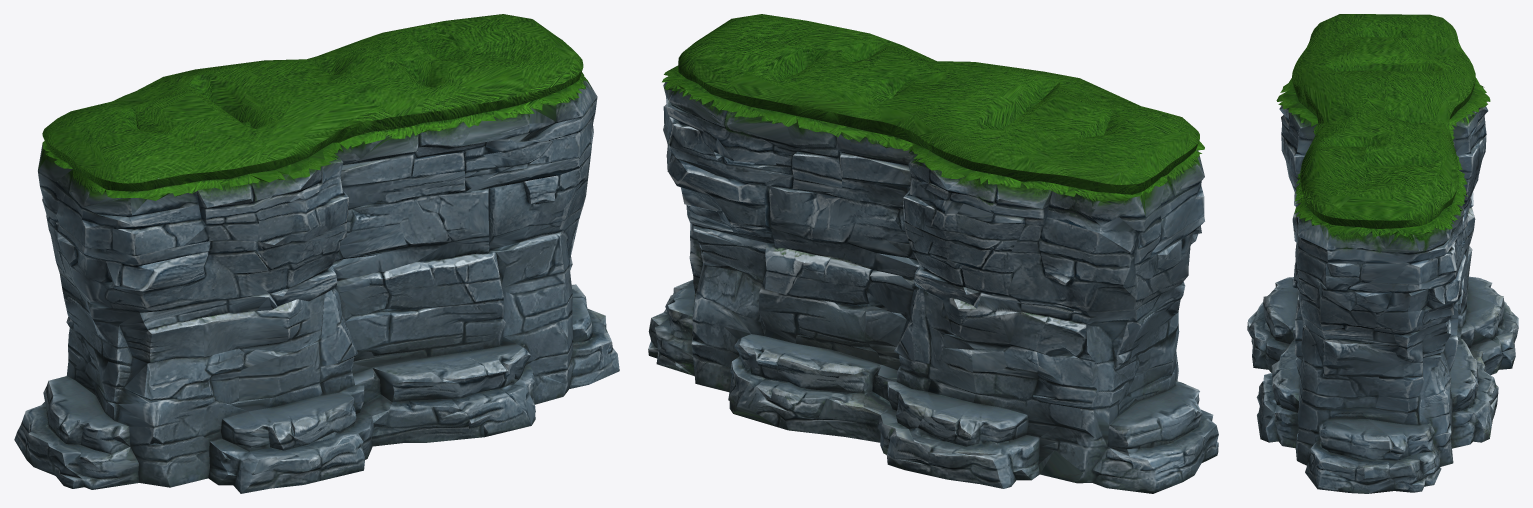
3 views of the same model, side by side, from view 1: azimuth 30°, elevation 25°; view 2: azimuth 150°, elevation 25°; view 3: azimuth 270°, elevation 25° (orthographic). The views are drawn at different scales.
Parts seen in each view (by area): view 1: sea_cliff; view 2: sea_cliff; view 3: sea_cliff.
Part boxes in pixels (x1,y1,x2,y2): sea_cliff: (14, 14, 619, 493); sea_cliff: (648, 14, 1218, 493); sea_cliff: (1247, 14, 1518, 493).
Size of the model in its own units: 0.9805 by 0.5654 by 0.4904.
1 material, 1 textured.
